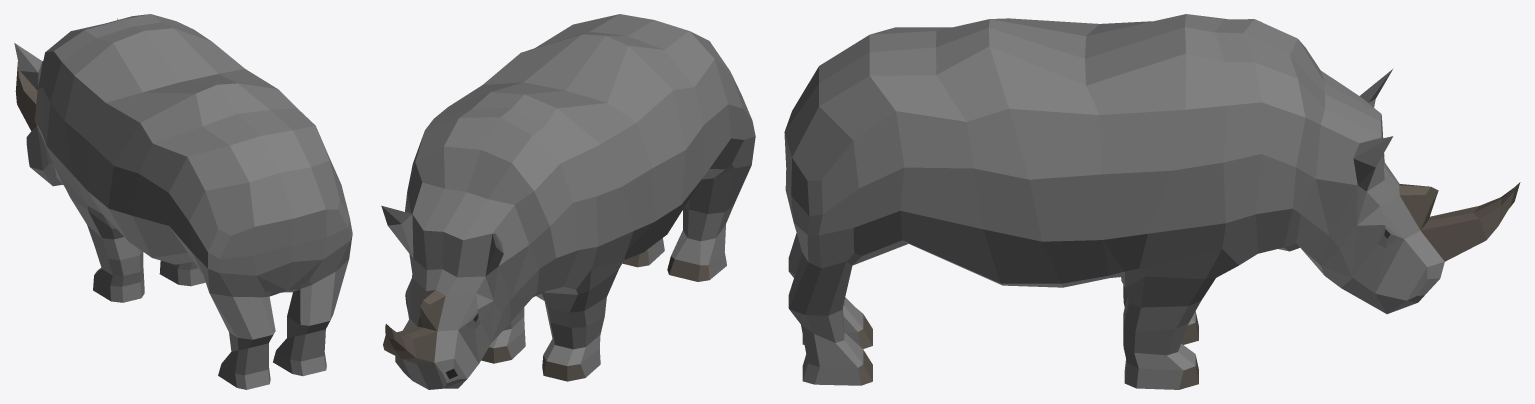
File: rinoceronte.glb
3 views of the same model, side by side, from view 1: azimuth 30°, elevation 25°; view 2: azimuth 150°, elevation 25°; view 3: azimuth 270°, elevation 25° (orthographic). The views are drawn at different scales.
Parts seen in each view (by area): view 1: Plane; view 2: Plane; view 3: Plane.
Boxes of the visible parts, x1,y1,x2,y2 form: Plane: (14, 14, 352, 389); Plane: (381, 14, 755, 389); Plane: (784, 14, 1520, 389).
Size of the model in its own units: 3.4 by 4.49 by 9.12.
Materials: 1 (1 with a texture image).
